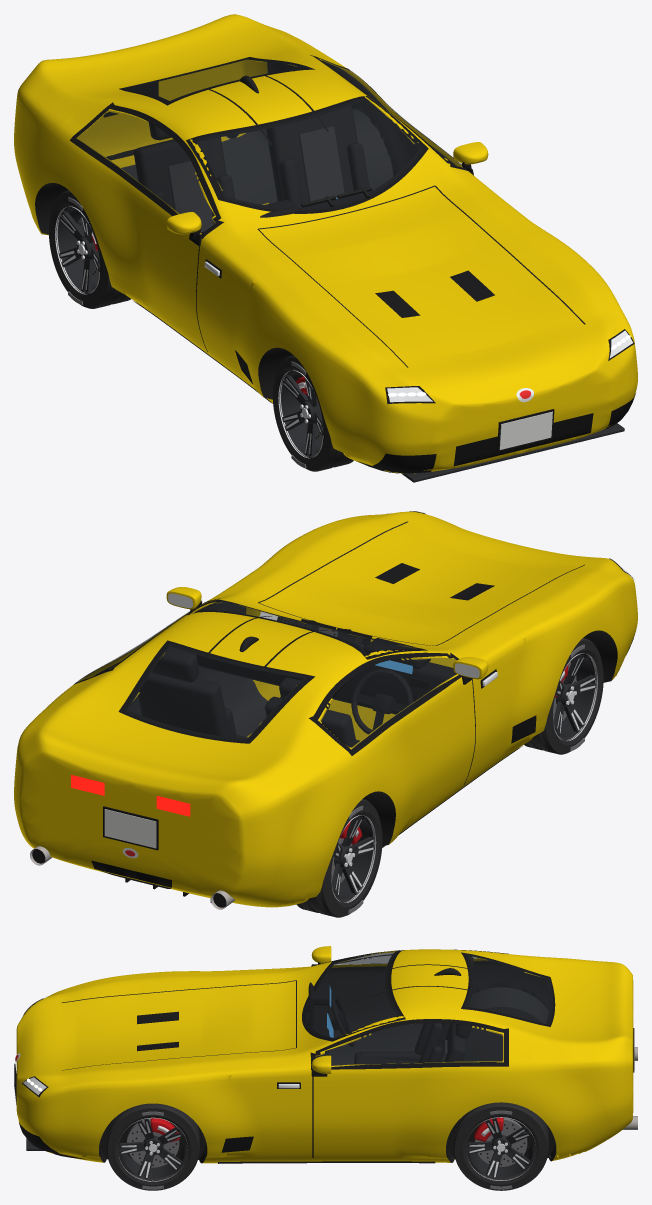
Rendered from grsupra.glb.
3 renders of one model, top to bottom at view 1: azimuth 30°, elevation 25°; view 2: azimuth 150°, elevation 25°; view 3: azimuth 270°, elevation 25°, orthographic. The views are drawn at different scales.
Visible parts, largest first — view 1: Body, Wheel_RR, Wheel_FR; view 2: Body, Wheel_RR, Wheel_FR; view 3: Body, Wheel_RL, Wheel_FL.
Part boxes in pixels (x1,y1,x2,y2): Body: (14, 14, 637, 482); Wheel_RR: (48, 190, 130, 308); Wheel_FR: (272, 355, 353, 471); Body: (14, 511, 637, 909); Wheel_RR: (296, 799, 382, 917); Wheel_FR: (524, 638, 603, 754); Body: (14, 946, 637, 1163); Wheel_RL: (453, 1102, 548, 1190); Wheel_FL: (106, 1103, 199, 1190).
Size of the model in its own units: 2.03 by 1.34 by 4.43.
